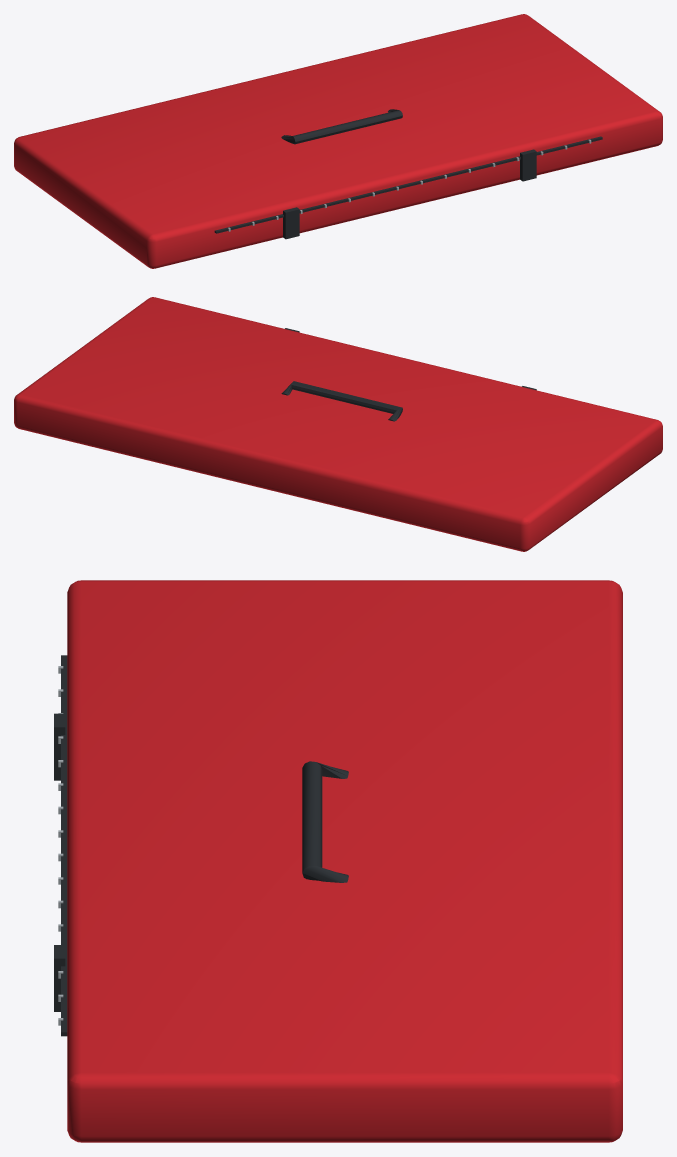
Rendered from ob_red_bag_g5.glb.
3 views of the same model, one above another, from view 1: azimuth 30°, elevation 25°; view 2: azimuth 150°, elevation 25°; view 3: azimuth 270°, elevation 25° (orthographic). The views are drawn at different scales.
Parts seen in each view (by area): view 1: ob_red_bag_g5; view 2: ob_red_bag_g5; view 3: ob_red_bag_g5.
Boxes of the visible parts, x1,y1,x2,y2 form: ob_red_bag_g5: [14, 14, 662, 268]; ob_red_bag_g5: [14, 297, 662, 551]; ob_red_bag_g5: [54, 580, 622, 1142].
Bounding box in the file's own units: 0.92 × 0.07 × 0.44.
